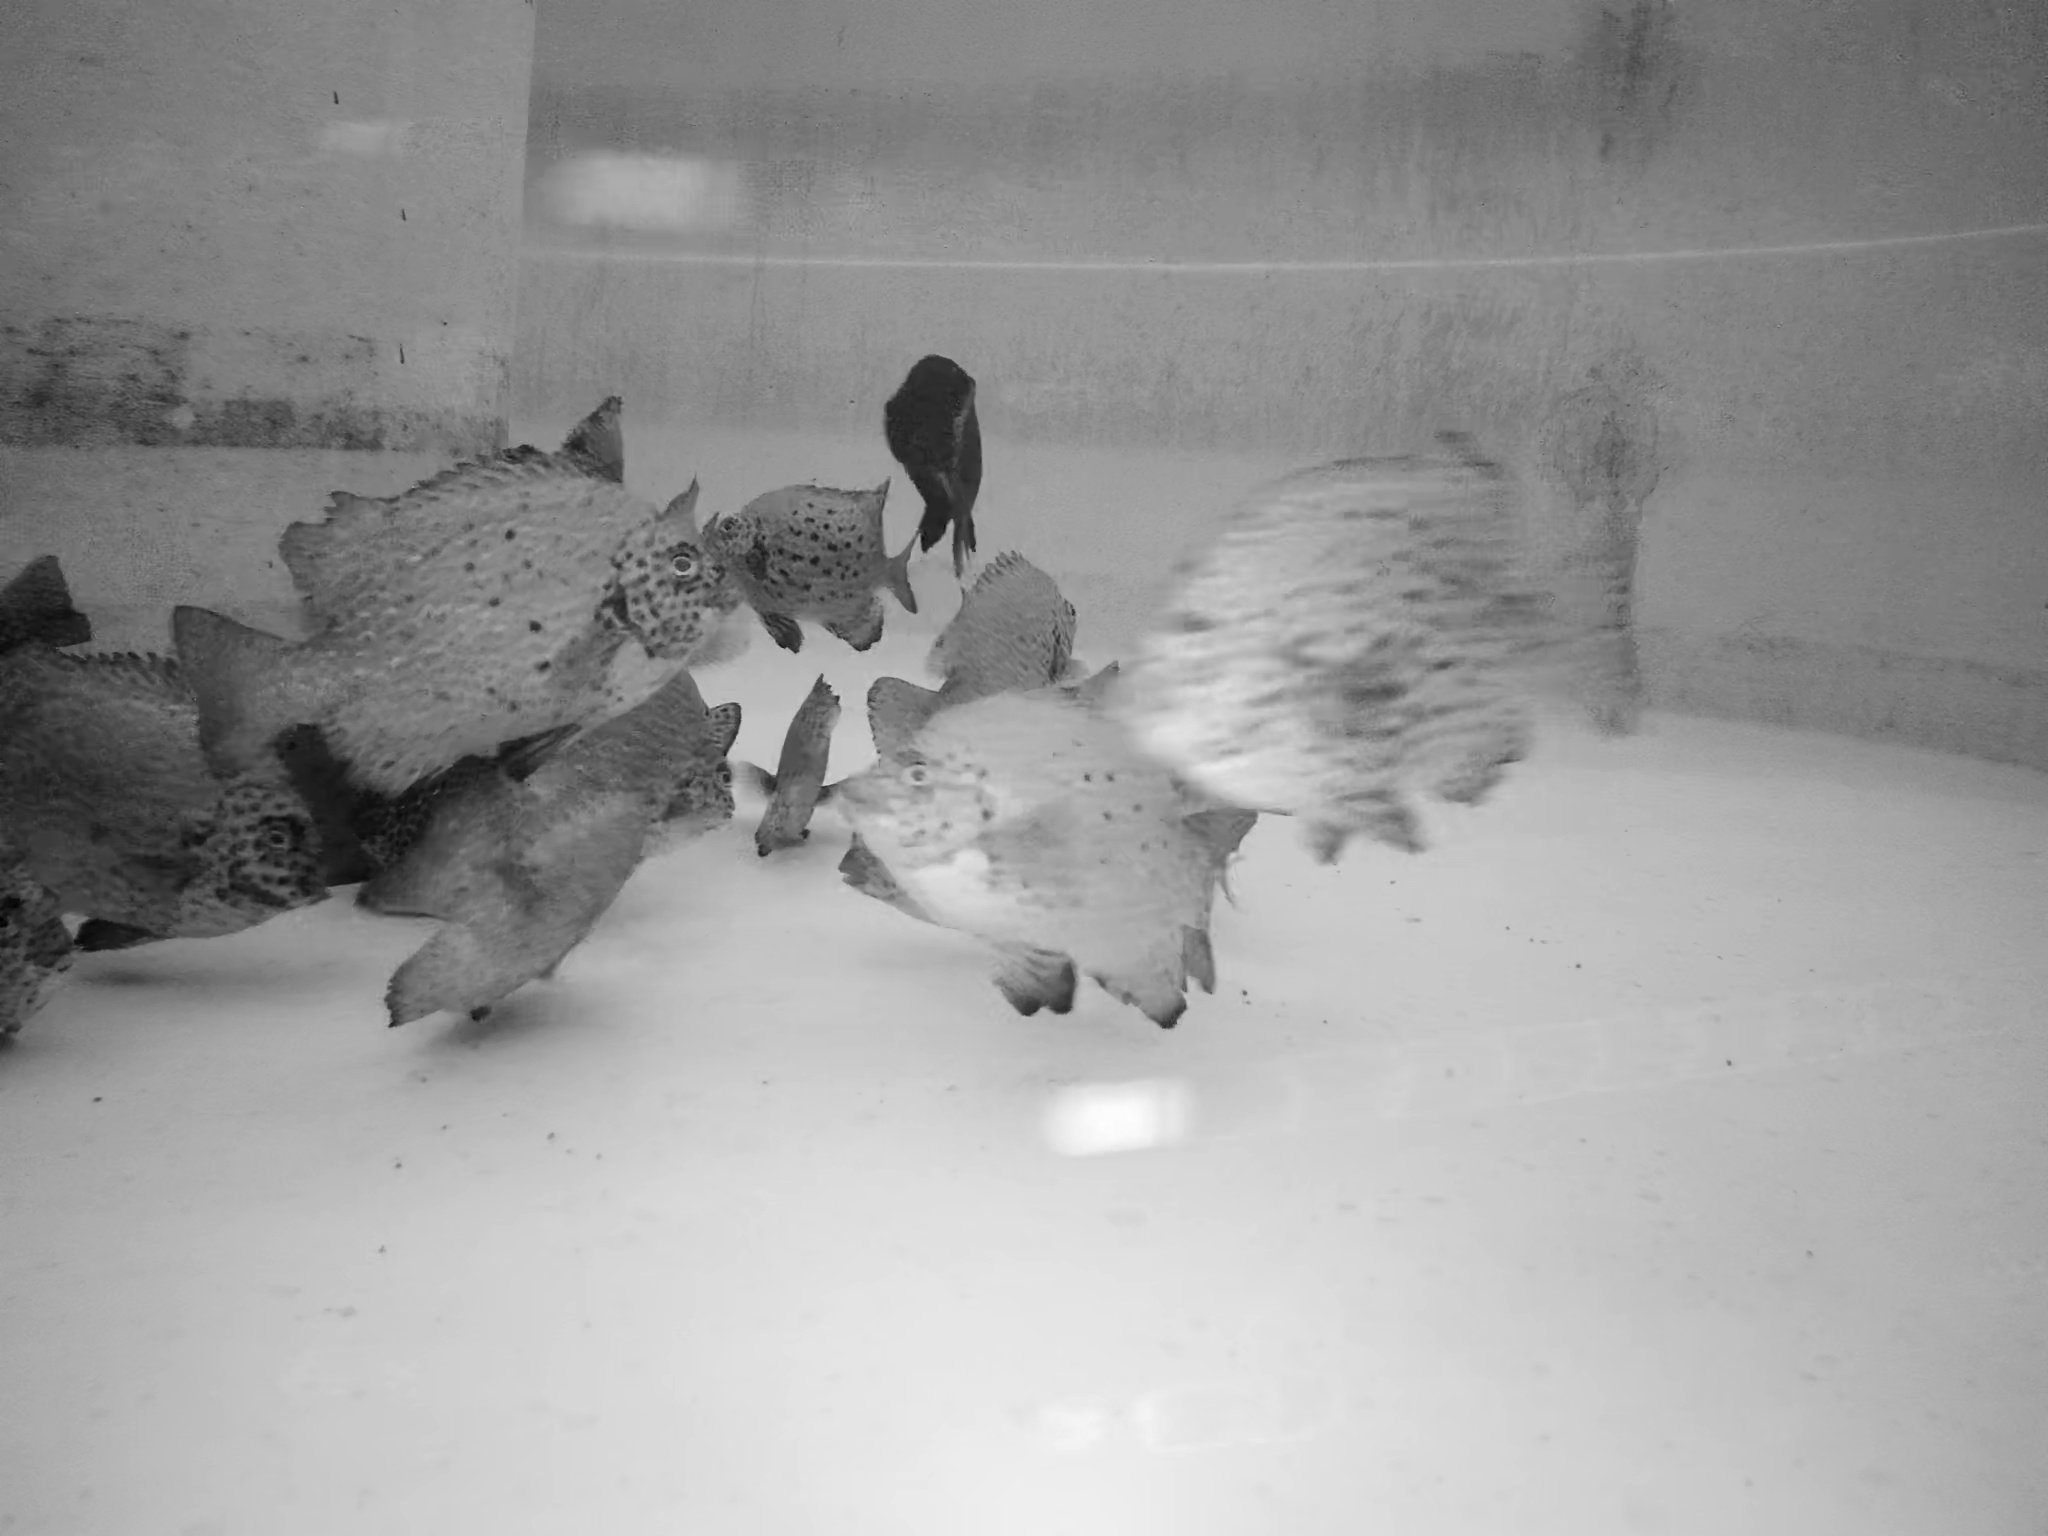fish: (1072, 429, 1655, 849), (153, 428, 718, 760), (835, 691, 1263, 1034), (18, 632, 298, 941), (385, 770, 660, 1020), (692, 465, 922, 657), (939, 549, 1076, 721), (876, 337, 977, 560), (763, 663, 840, 873), (545, 392, 627, 586)
